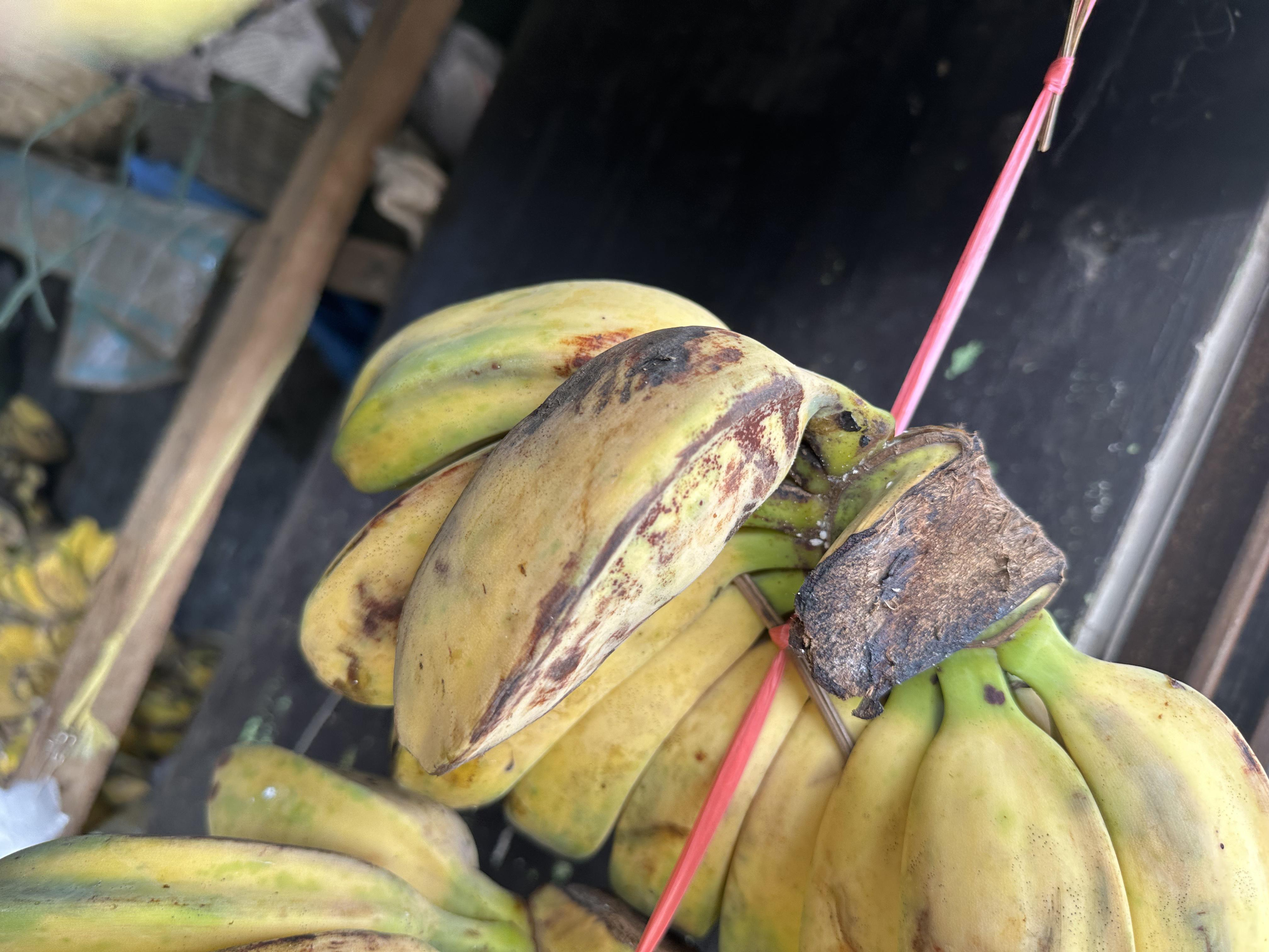underripe: (297, 283, 1269, 952), (0, 743, 480, 952)
